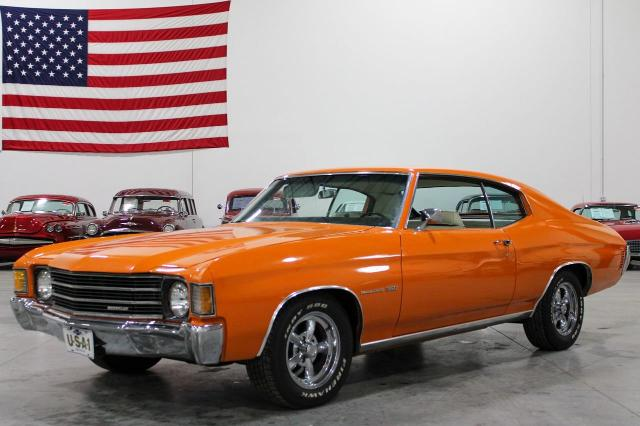chevelle-1972: (11, 168, 630, 408)
